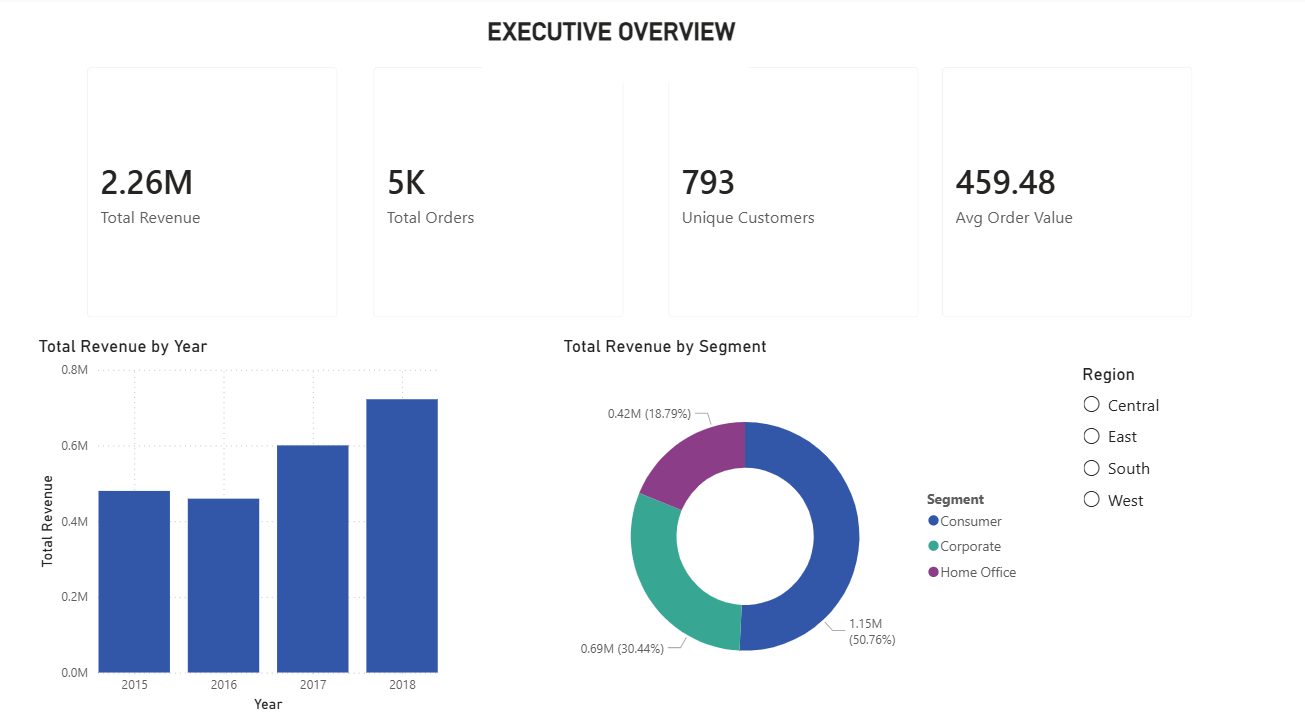

Layout of this report page (visuals, bound fields, positions):
{"tool":"powerbi","page":{"name":"Executive Overview","canvas":[1280,720],"ordinal":0},"visuals":[{"type":"cardVisual","fields":{"Data":["Date Table.Total Revenue"]},"box":[72.7,52.1,279.9,279.9],"z":0},{"type":"cardVisual","fields":{"Data":["Date Table.Unique Customers"]},"box":[640.8,52.1,279.9,279.9],"z":1000},{"type":"cardVisual","fields":{"Data":["Date Table.Avg Order Value"]},"box":[908.4,52.1,279.9,279.9],"z":2000},{"type":"cardVisual","fields":{"Data":["Date Table.Total Orders"]},"box":[352.7,52.1,279.9,279.9],"z":3000},{"type":"clusteredColumnChart","fields":{"Category":["Date Table.Year"],"Y":["Date Table.Total Revenue"]},"box":[37,332.1,400.7,373.2],"z":4000},{"type":"donutChart","fields":{"Category":["train.Segment"],"Y":["Date Table.Total Revenue"]},"box":[550.3,332.1,462.4,373.2],"z":5000},{"type":"listSlicer","fields":{"Values":["train.Region"]},"box":[1058,359.5,183.9,279.9],"z":6000},{"type":"textbox","title":"EXECUTIVE OVERVIEW","box":[476.2,20.6,260.7,63.1],"z":6001}]}

Visuals, with their boxes in screenshot pixels (x1, y1, x2, y2), scaled from the page's 1280x720 canvas onto the 1305x728 screenshot:
cardVisual - Date Table.Total Revenue: pyautogui.locateOnScreen(74, 53, 359, 336)
cardVisual - Date Table.Unique Customers: pyautogui.locateOnScreen(653, 53, 939, 336)
cardVisual - Date Table.Avg Order Value: pyautogui.locateOnScreen(926, 53, 1212, 336)
cardVisual - Date Table.Total Orders: pyautogui.locateOnScreen(360, 53, 645, 336)
clusteredColumnChart - Date Table.Year x Date Table.Total Revenue: pyautogui.locateOnScreen(38, 336, 446, 713)
donutChart - train.Segment x Date Table.Total Revenue: pyautogui.locateOnScreen(561, 336, 1032, 713)
listSlicer - train.Region: pyautogui.locateOnScreen(1079, 363, 1266, 647)
"EXECUTIVE OVERVIEW" textbox: pyautogui.locateOnScreen(486, 21, 751, 85)
